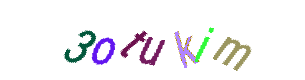3: (41, 0, 121, 80)
I: (163, 0, 243, 80)
K: (123, 0, 203, 80)
M: (170, 0, 250, 80)
O: (63, 0, 143, 80)
T: (104, 0, 184, 80)
U: (112, 0, 192, 80)
